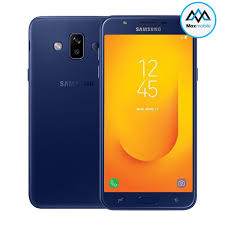samsung: (99, 13, 198, 213), (25, 12, 100, 210)
